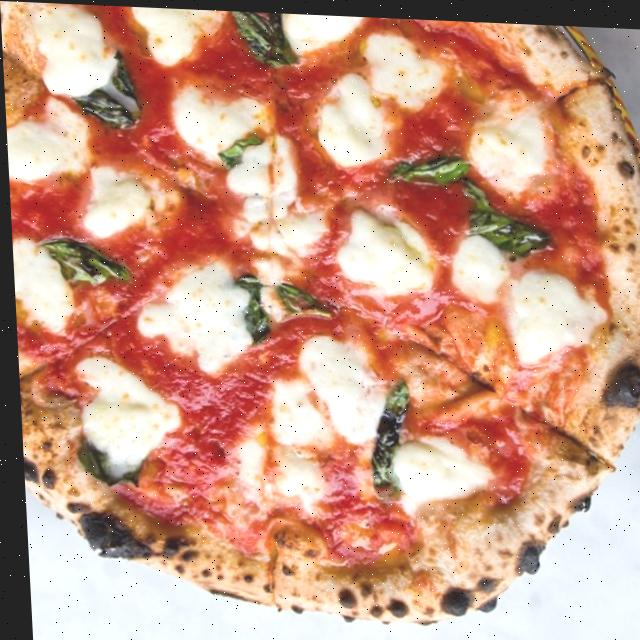basil: (231, 268, 328, 353), (457, 173, 554, 255), (356, 373, 413, 502), (66, 48, 143, 134), (33, 233, 132, 292), (224, 8, 297, 67), (384, 143, 474, 189), (72, 439, 136, 493), (211, 129, 264, 168)
pizza: (0, 1, 640, 627)
